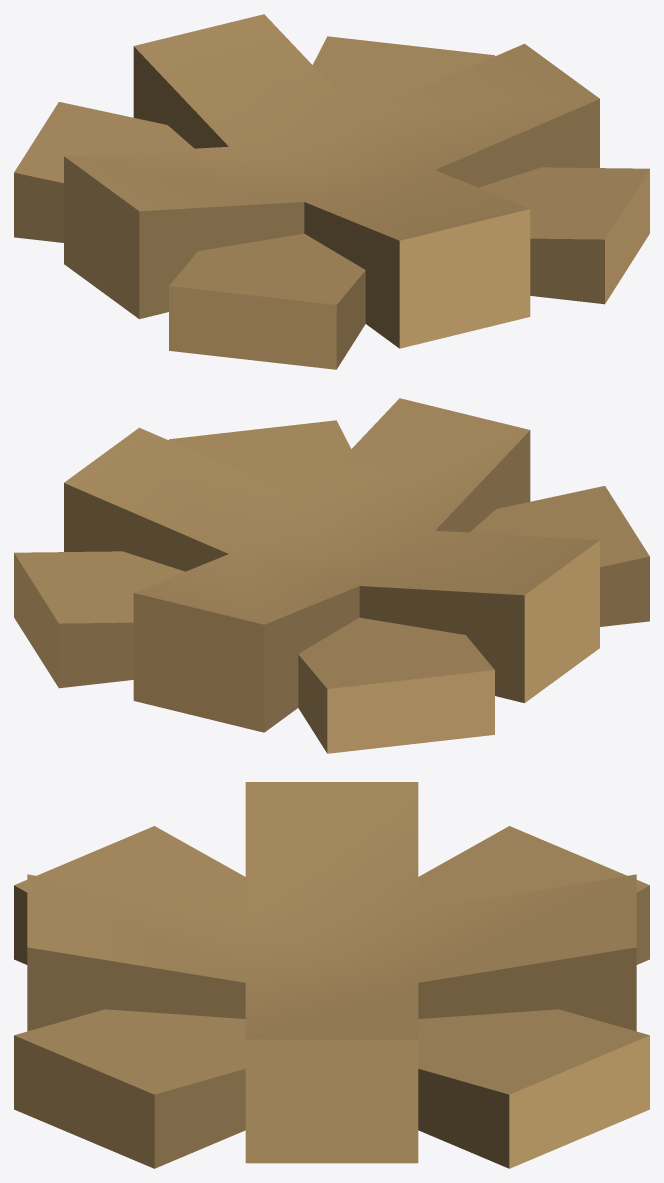
File: Campfire_01.obj
3 renders of one model, top to bottom at view 1: azimuth 30°, elevation 25°; view 2: azimuth 150°, elevation 25°; view 3: azimuth 270°, elevation 25°, orthographic. The views are drawn at different scales.
Parts seen in each view (by area): view 1: Mesh1_Campfire_Model; view 2: Mesh1_Campfire_Model; view 3: Mesh1_Campfire_Model.
Part boxes in pixels (x1=…): Mesh1_Campfire_Model: x1=14, y1=14, x2=649, y2=369; Mesh1_Campfire_Model: x1=14, y1=398, x2=649, y2=753; Mesh1_Campfire_Model: x1=14, y1=782, x2=649, y2=1168.
Size of the model in its own units: 0.6993 by 0.15 by 0.6993.
